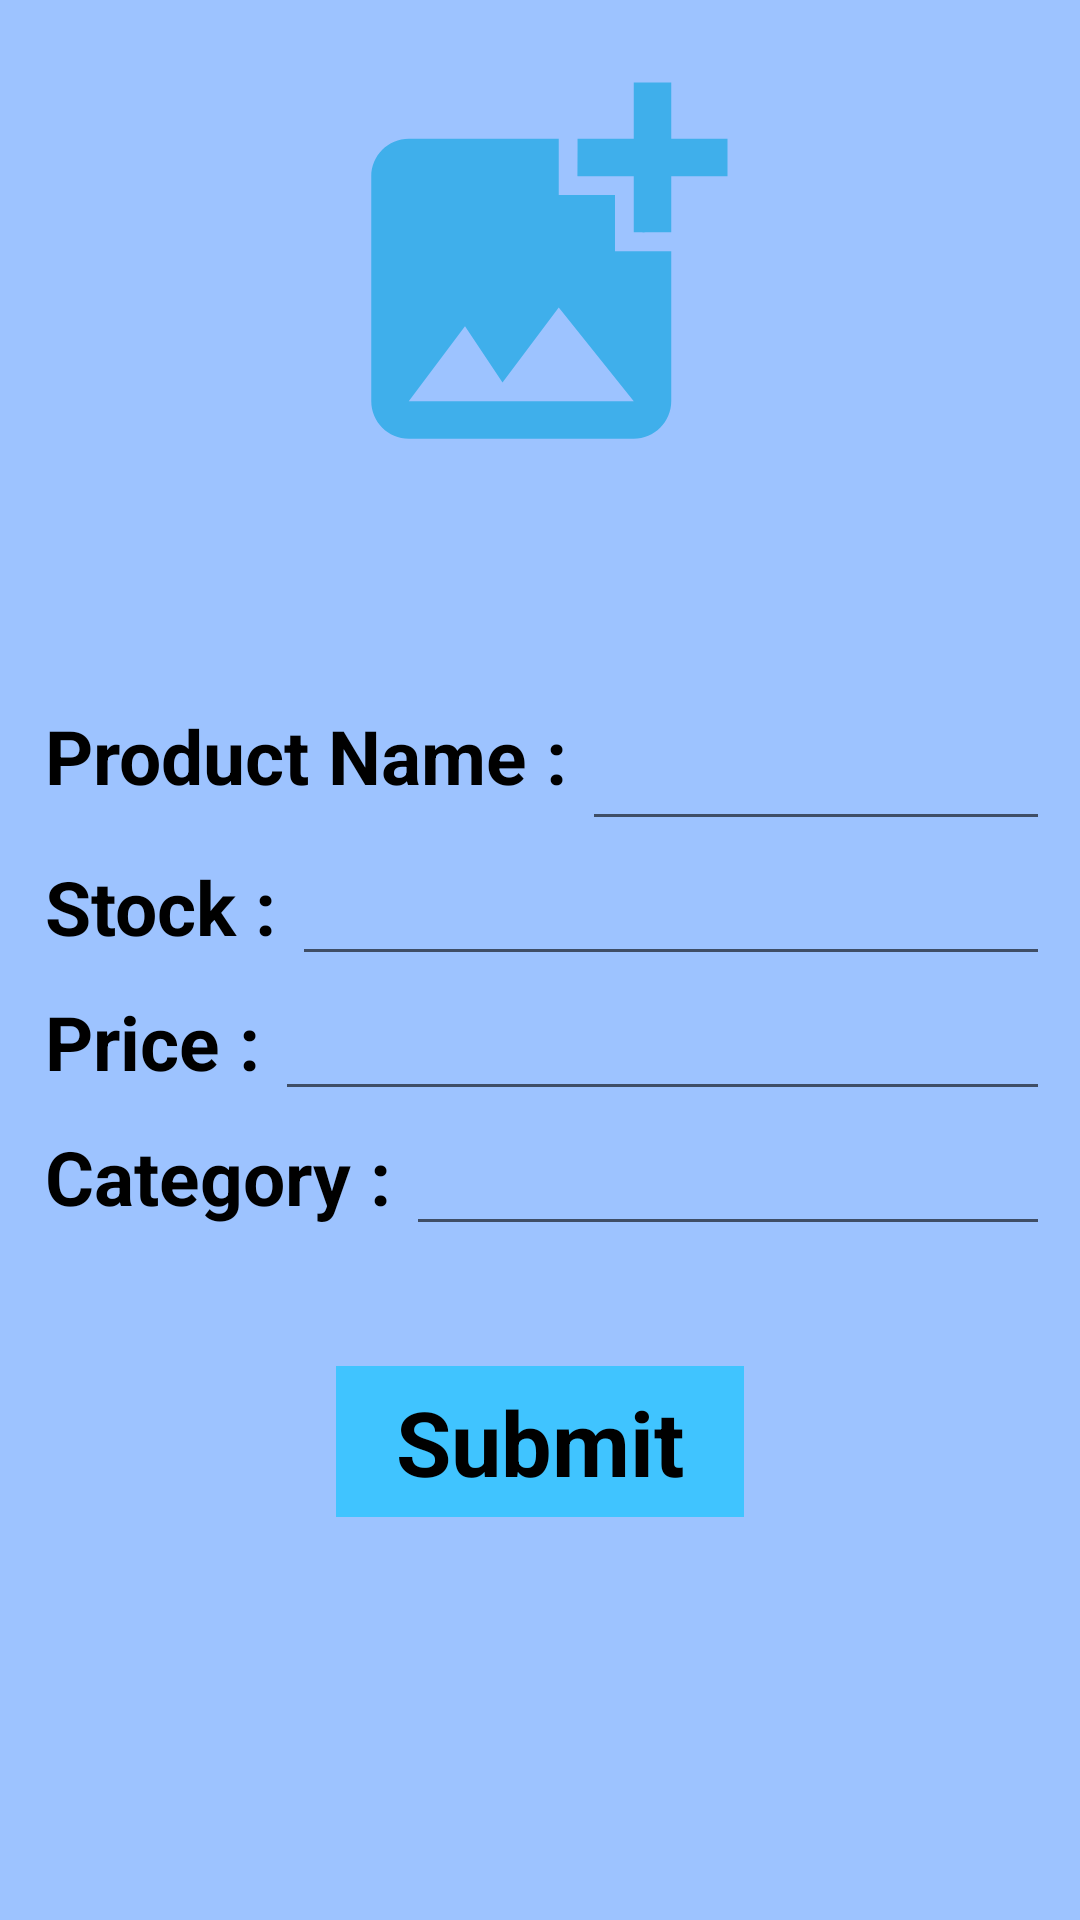

Point at icon controls on the screen. Image size 1080*1920, points as (x=x, y=y).
add photo alternate: (x=549, y=260)
